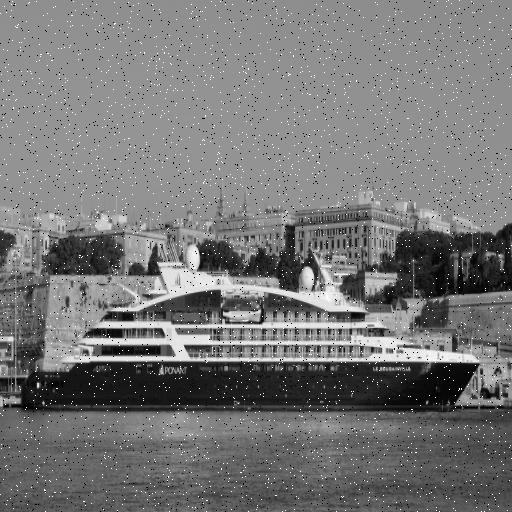cruises: (24, 241, 487, 421)
